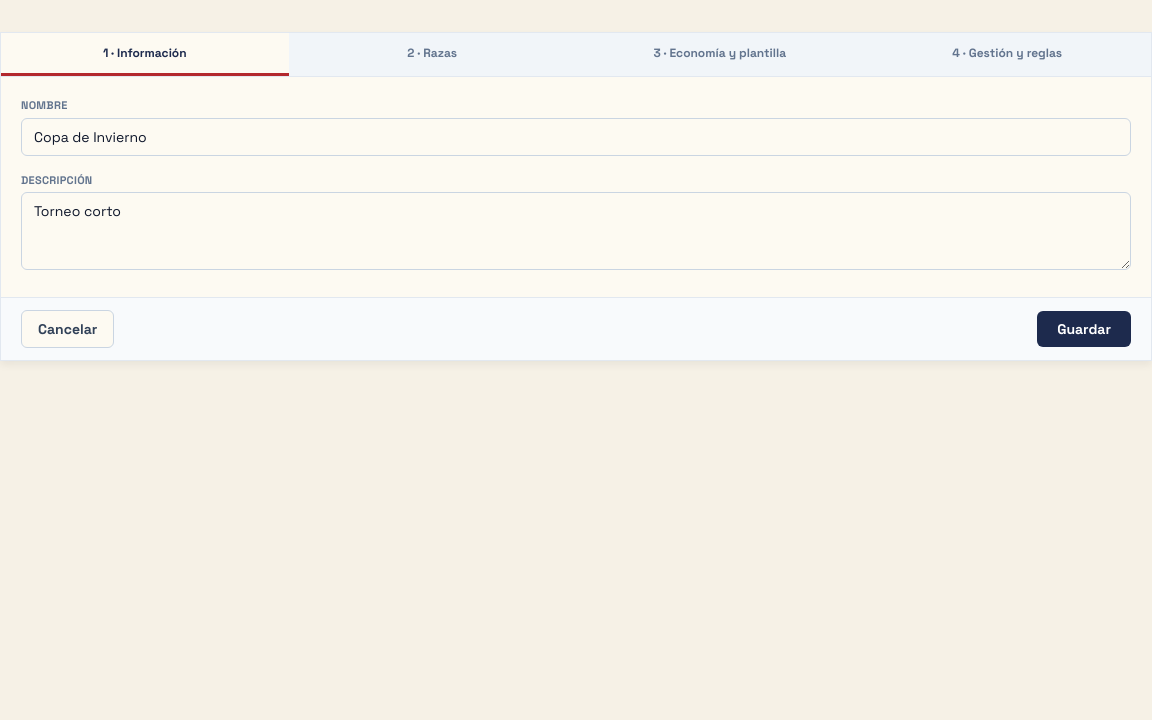
RulesetEditor › warns when leaving a modified tab and Continuar editando stays put
This screenshot has width=1152, height=720.
Replace the text in the field labelled "Nombre" with "Cambiado" at coordinates (576, 136), box x1=21 y1=118 x2=1131 y2=156
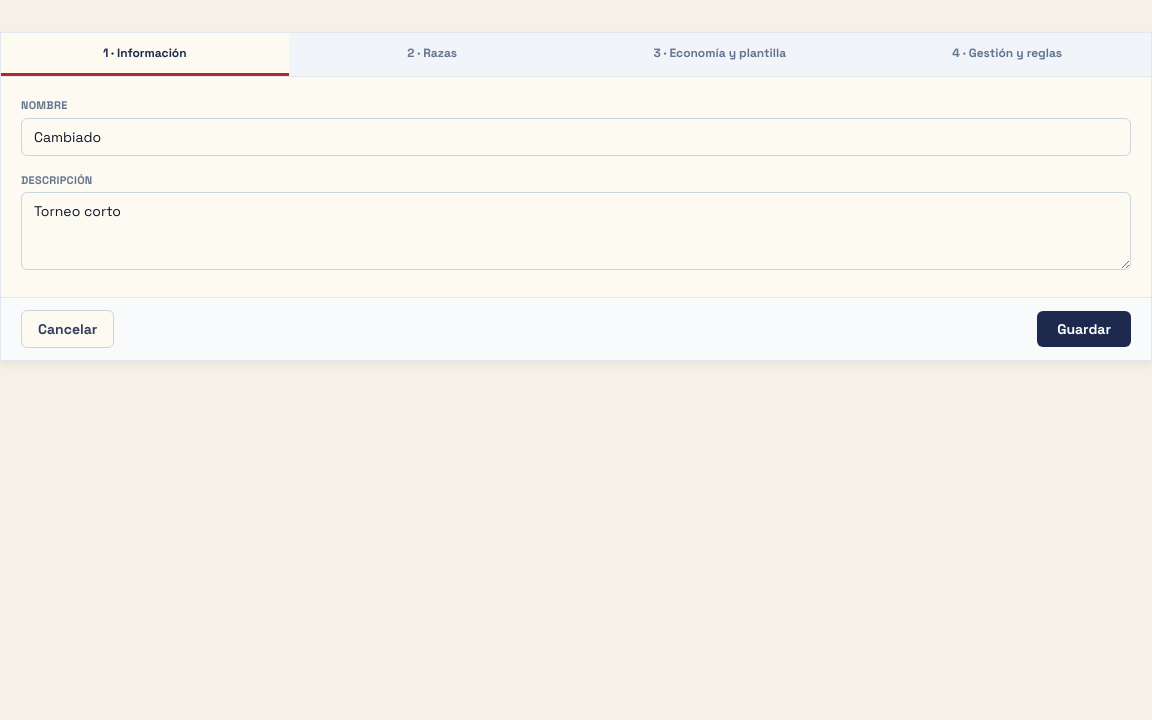
Click the tab "2 · Razas" at coordinates (432, 54), box x1=288 y1=33 x2=576 y2=76
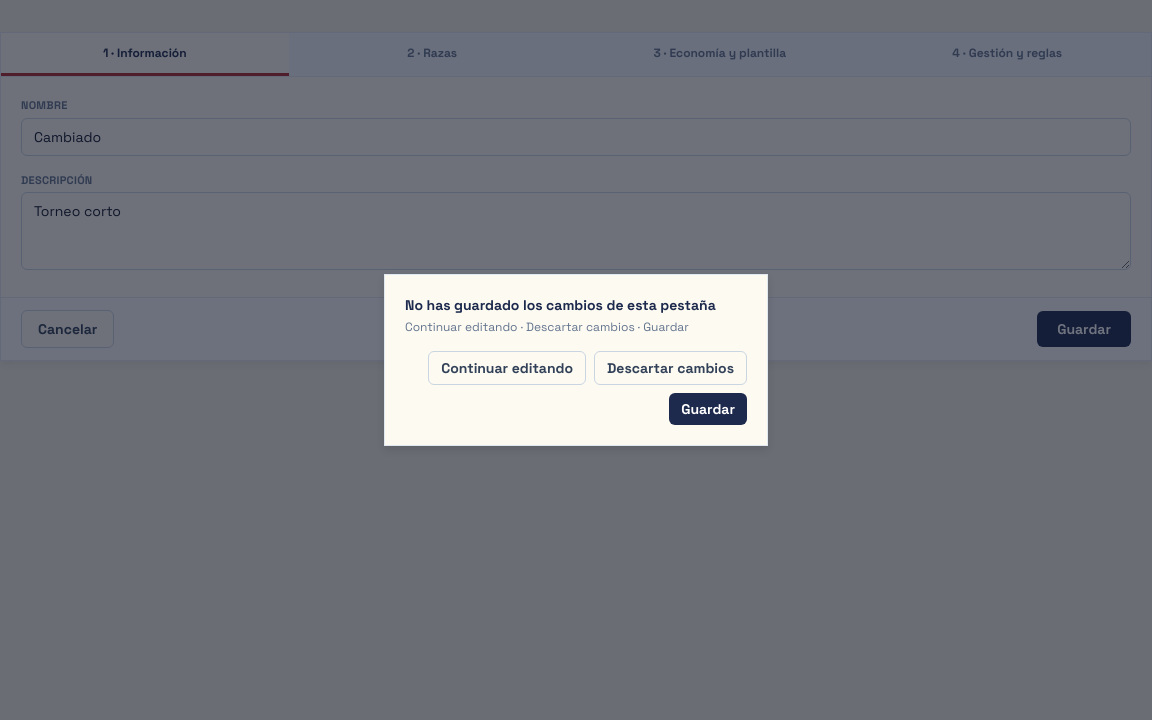
Click the button "Continuar editando" at coordinates (507, 368), box x1=428 y1=351 x2=586 y2=385
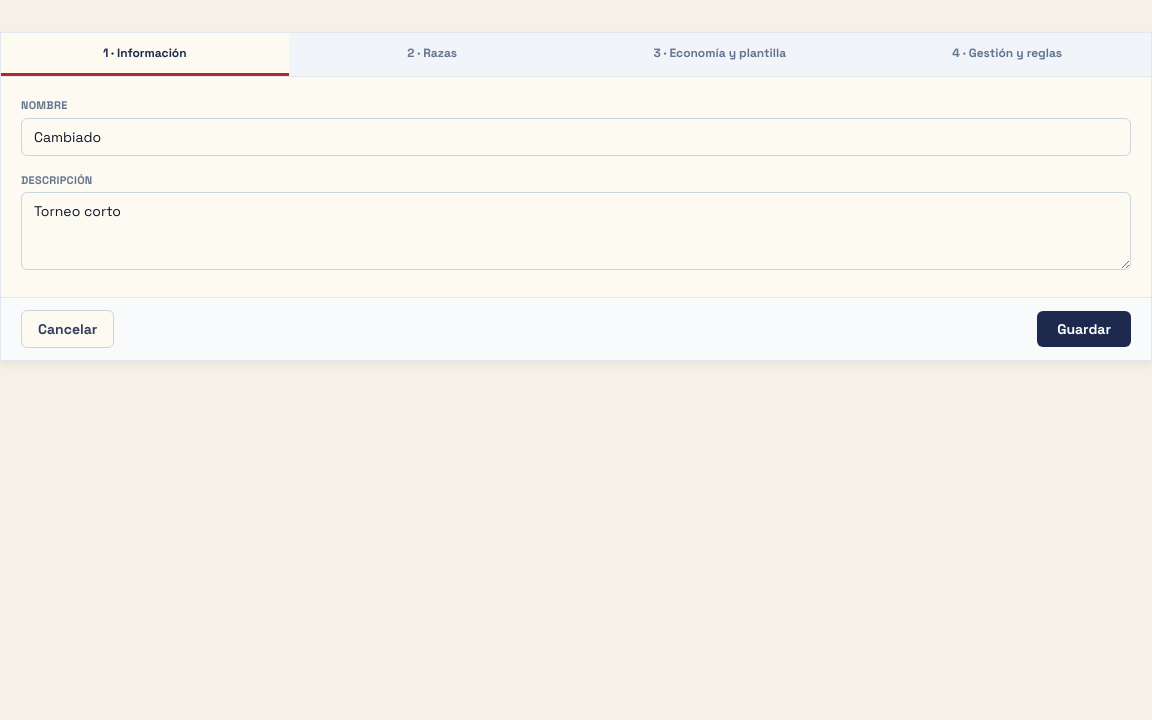
expect the dialog is gone: met
